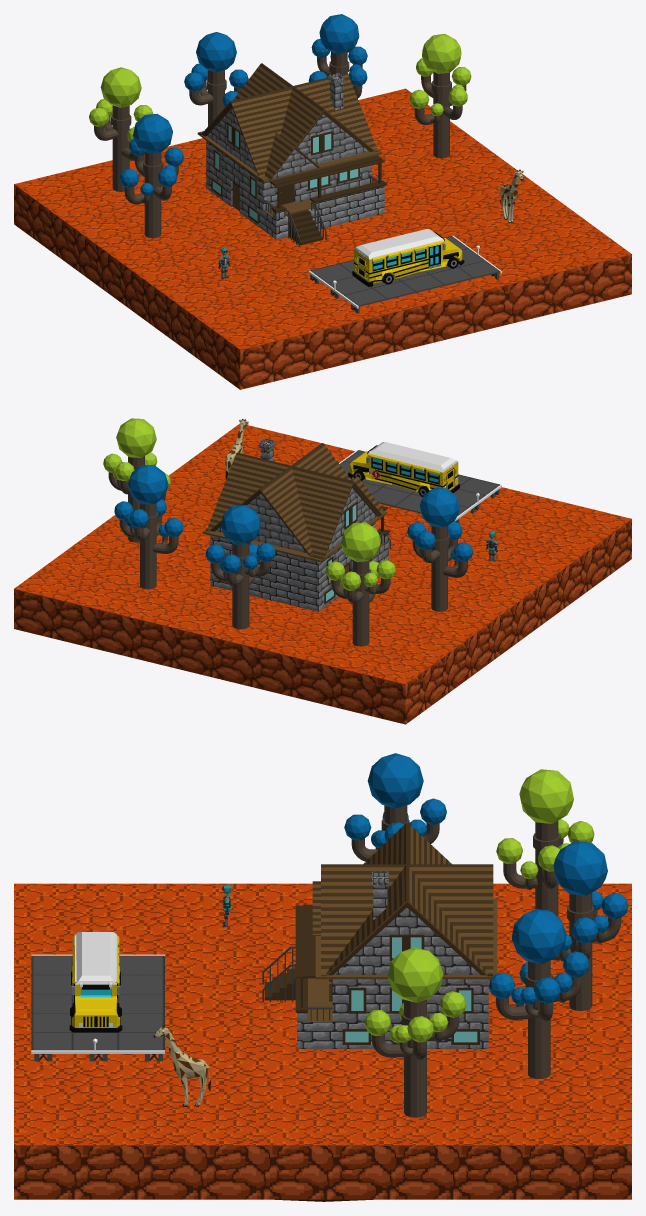
The picture shows the model from 3 angles, top to bottom: view 1: azimuth 30°, elevation 25°; view 2: azimuth 150°, elevation 25°; view 3: azimuth 270°, elevation 25°; orthographic projection. The views are drawn at different scales.
Visible parts, largest first — view 1: Cube.001, Cube.586, VEHICLES_SCHOOL_BUS, ANIMAL_JIRAFA; view 2: Cube.001, Cube.586, VEHICLES_SCHOOL_BUS, ANIMAL_JIRAFA; view 3: Cube.001, Cube.586, VEHICLES_SCHOOL_BUS, ANIMAL_JIRAFA.
Boxes of the visible parts, box(x1,y1,x2,y2) form: Cube.001: box(14, 14, 631, 389); Cube.586: box(197, 63, 387, 246); VEHICLES_SCHOOL_BUS: box(352, 229, 464, 286); ANIMAL_JIRAFA: box(500, 169, 523, 222); Cube.001: box(14, 418, 631, 724); Cube.586: box(202, 438, 390, 611); VEHICLES_SCHOOL_BUS: box(348, 442, 459, 496); ANIMAL_JIRAFA: box(225, 419, 248, 478); Cube.001: box(14, 753, 631, 1199); Cube.586: box(262, 823, 497, 1048); VEHICLES_SCHOOL_BUS: box(69, 932, 122, 1032); ANIMAL_JIRAFA: box(153, 1025, 210, 1106).
Bounding box in the file's own units: 4000 × 1730 × 4000.
40 materials, 5 textured.
